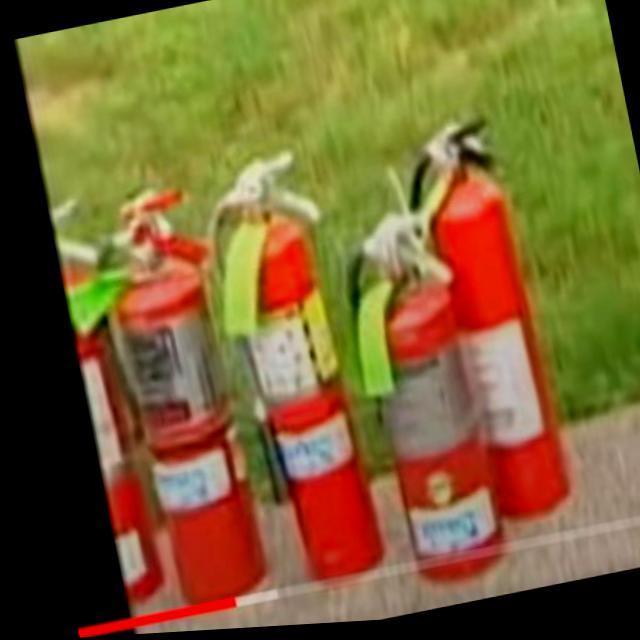FireExtinguisher: (184, 137, 388, 603), (80, 173, 275, 629), (382, 118, 575, 546), (317, 193, 509, 601), (35, 188, 169, 618)
